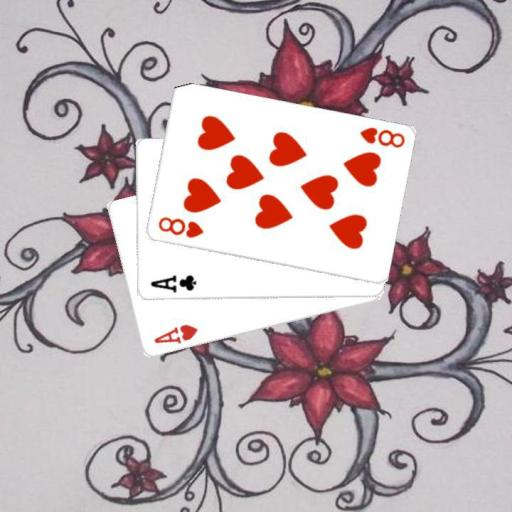8H: (154, 213, 205, 240), (356, 124, 406, 149)
AC: (147, 273, 197, 295)
AH: (151, 322, 199, 346)
